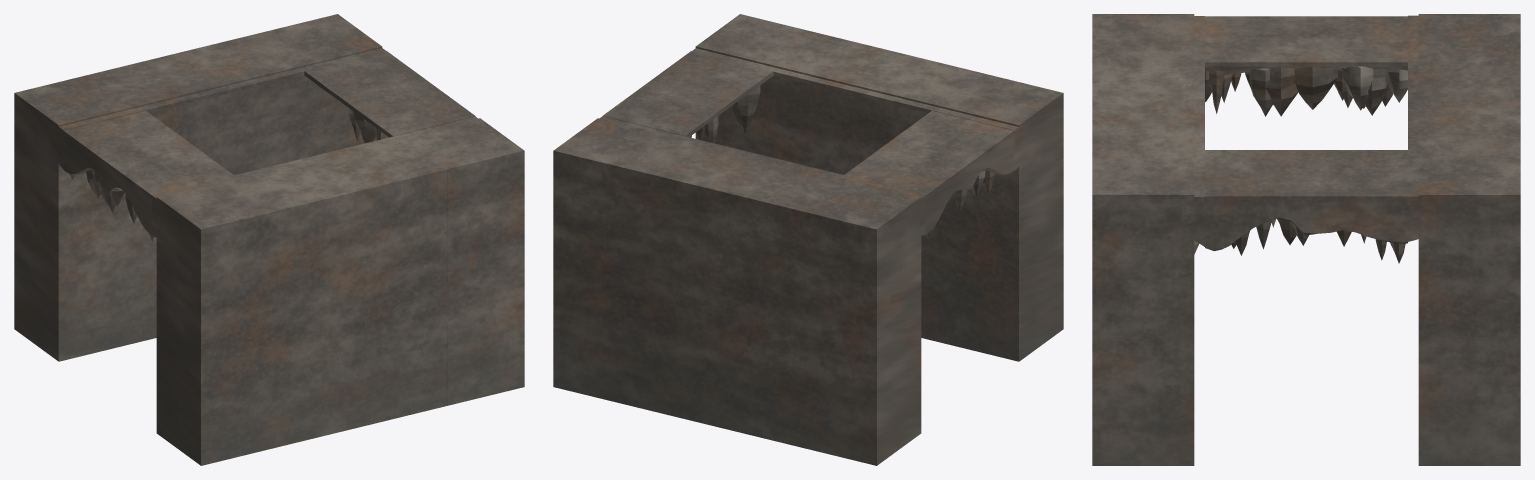
File: dungeon_cave_passage_vault.glb
3 views of the same model, side by side, from view 1: azimuth 30°, elevation 25°; view 2: azimuth 150°, elevation 25°; view 3: azimuth 270°, elevation 25° (orthographic). The views are drawn at different scales.
Visible parts, largest first — view 1: dungeon_cave_passage_vault; view 2: dungeon_cave_passage_vault; view 3: dungeon_cave_passage_vault.
Boxes of the visible parts, <box> form: dungeon_cave_passage_vault: <box>14,14,524,465</box>; dungeon_cave_passage_vault: <box>553,14,1063,465</box>; dungeon_cave_passage_vault: <box>1092,14,1520,465</box>.
Bounding box in the file's own units: 5 × 3.5 × 5.
Materials: 1 (1 with a texture image).
